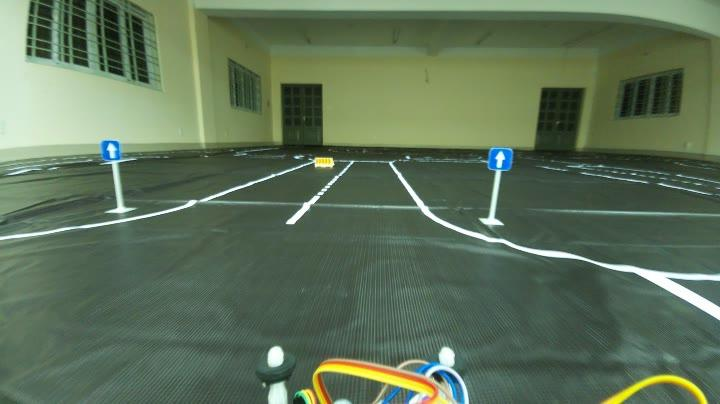onewayroad: (96, 136, 132, 160), (487, 142, 512, 171)
roadblock: (314, 157, 334, 169)
